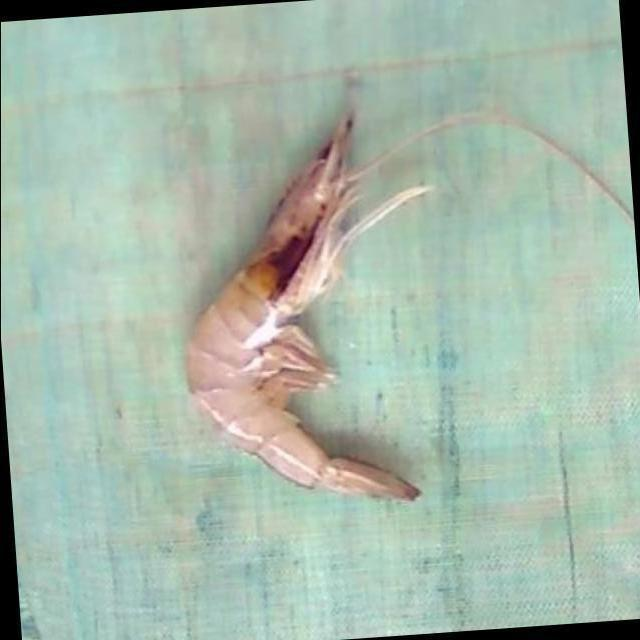shrimp: (186, 115, 427, 502)
